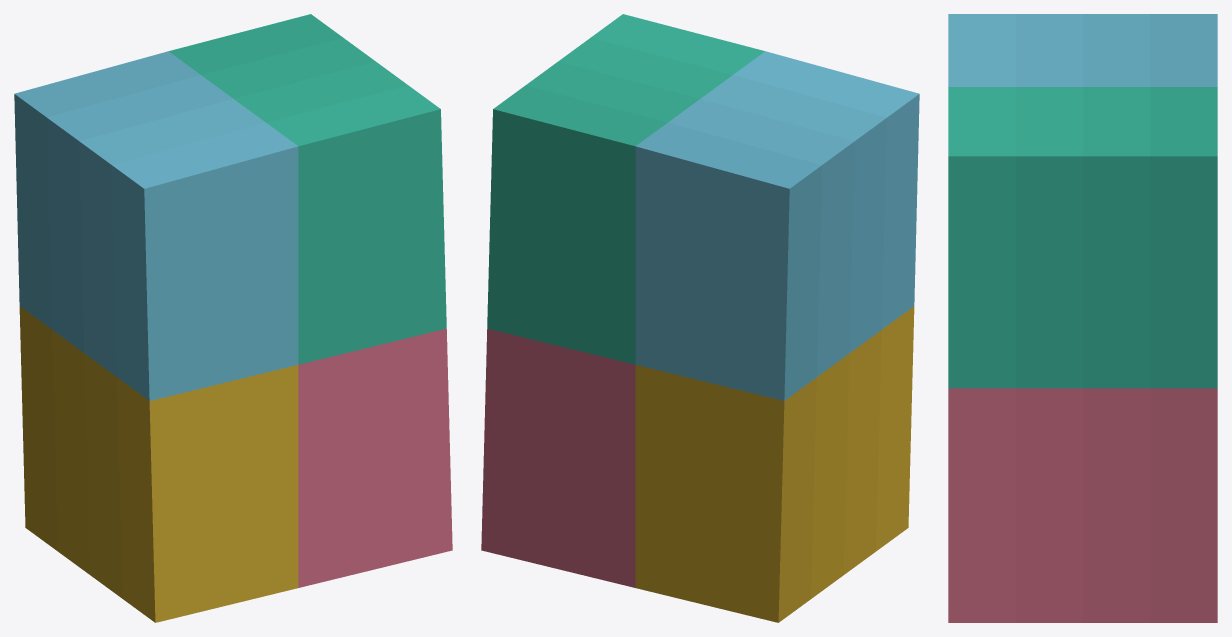
Rendered from B01_units.glb.
3 views of the same model, side by side, from view 1: azimuth 30°, elevation 25°; view 2: azimuth 150°, elevation 25°; view 3: azimuth 270°, elevation 25° (orthographic). The views are drawn at different scales.
Parts seen in each view (by area): view 1: P001-B01-F04-U401, P001-B01-F04-U403, P001-B01-F04-U402, P001-B01-F04-U404, P001-B01-F01-U101, P001-B01-F02-U201, P001-B01-F03-U301, P001-B01-F01-U103, P001-B01-F02-U203, P001-B01-F03-U303, P001-B01-F03-U302, P001-B01-F02-U202 (+1 smaller); view 2: P001-B01-F01-U101, P001-B01-F01-U103, P001-B01-F01-U102, P001-B01-F01-U104, P001-B01-F04-U401, P001-B01-F02-U201, P001-B01-F03-U301, P001-B01-F04-U403, P001-B01-F02-U203, P001-B01-F03-U303, P001-B01-F02-U202, P001-B01-F03-U302 (+1 smaller); view 3: P001-B01-F01-U102, P001-B01-F04-U402, P001-B01-F02-U202, P001-B01-F03-U302, P001-B01-F01-U104, P001-B01-F02-U204, P001-B01-F03-U304, P001-B01-F04-U404, P001-B01-F01-U101, P001-B01-F02-U201, P001-B01-F03-U301, P001-B01-F04-U401.
Boxes of the visible parts, <box> form: P001-B01-F04-U401: <box>111,122,298,400</box>; P001-B01-F04-U403: <box>117,365,298,622</box>; P001-B01-F04-U402: <box>266,85,446,364</box>; P001-B01-F04-U404: <box>298,328,452,587</box>; P001-B01-F01-U101: <box>14,51,200,329</box>; P001-B01-F02-U201: <box>47,75,232,353</box>; P001-B01-F03-U301: <box>79,99,265,376</box>; P001-B01-F01-U103: <box>19,306,57,551</box>; P001-B01-F02-U203: <box>52,330,90,574</box>; P001-B01-F03-U303: <box>84,354,122,598</box>; P001-B01-F03-U302: <box>234,61,407,122</box>; P001-B01-F02-U202: <box>201,38,375,98</box>; P001-B01-F01-U101: <box>635,122,822,400</box>; P001-B01-F01-U103: <box>635,365,816,622</box>; P001-B01-F01-U102: <box>487,85,667,364</box>; P001-B01-F01-U104: <box>481,328,635,587</box>; P001-B01-F04-U401: <box>733,51,919,329</box>; P001-B01-F02-U201: <box>668,99,854,376</box>; P001-B01-F03-U301: <box>701,75,886,353</box>; P001-B01-F04-U403: <box>876,306,914,551</box>; P001-B01-F02-U203: <box>811,354,849,598</box>; P001-B01-F03-U303: <box>843,330,881,574</box>; P001-B01-F02-U202: <box>526,61,699,122</box>; P001-B01-F03-U302: <box>558,38,732,98</box>; P001-B01-F01-U102: <box>1150,87,1217,388</box>; P001-B01-F04-U402: <box>948,87,1015,388</box>; P001-B01-F02-U202: <box>1083,87,1150,388</box>; P001-B01-F03-U302: <box>1015,87,1082,388</box>; P001-B01-F01-U104: <box>1150,388,1217,622</box>; P001-B01-F02-U204: <box>1083,388,1150,622</box>; P001-B01-F03-U304: <box>1015,388,1082,622</box>; P001-B01-F04-U404: <box>948,388,1015,622</box>; P001-B01-F01-U101: <box>1150,14,1217,86</box>; P001-B01-F02-U201: <box>1083,14,1150,86</box>; P001-B01-F03-U301: <box>1015,14,1082,86</box>; P001-B01-F04-U401: <box>948,14,1015,86</box>.
Bounding box in the file's own units: 16.44 × 22.62 × 12.
